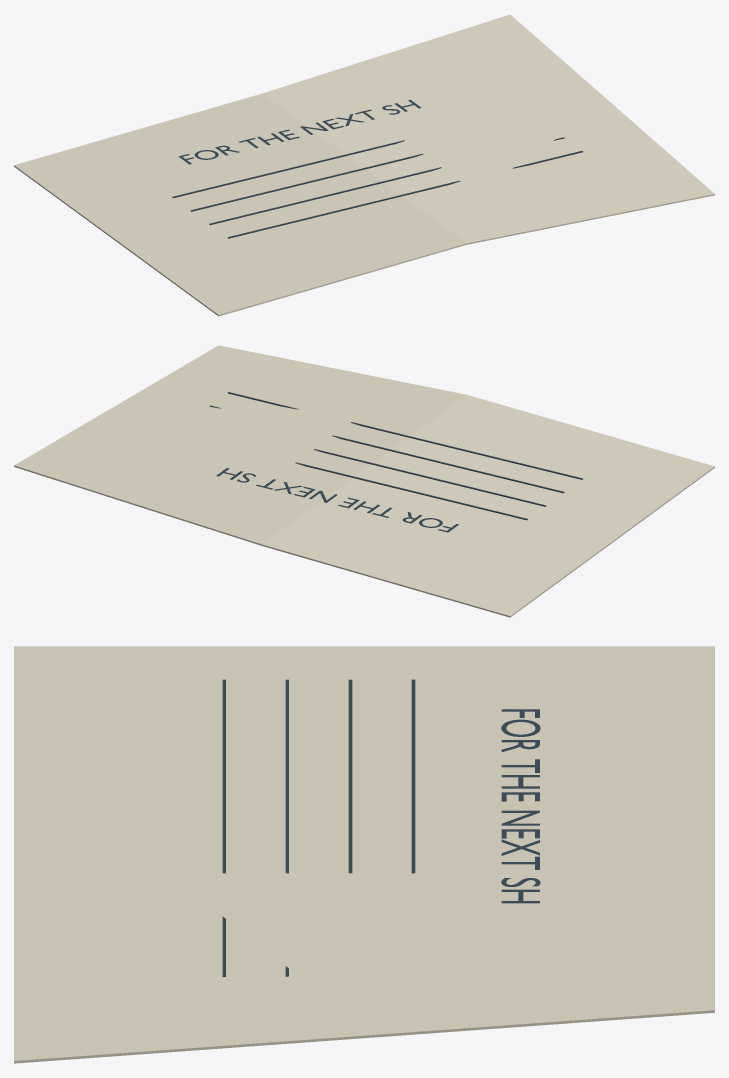
Rendered from FoldedPersonalNote.fbx.
3 renders of one model, top to bottom at view 1: azimuth 30°, elevation 25°; view 2: azimuth 150°, elevation 25°; view 3: azimuth 270°, elevation 25°, orthographic. The views are drawn at different scales.
Parts seen in each view (by area): view 1: FoldedPersonalNote.001; view 2: FoldedPersonalNote.001; view 3: FoldedPersonalNote.001.
Part boxes in pixels (x1,y1,x2,y2): FoldedPersonalNote.001: [14, 14, 714, 316]; FoldedPersonalNote.001: [14, 345, 714, 617]; FoldedPersonalNote.001: [14, 646, 714, 1063].
Size of the model in its own units: 14 by 0.84 by 10.
